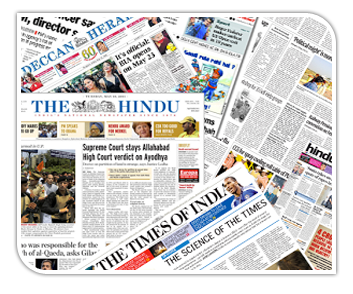news_paper: (18, 86, 223, 284), (183, 15, 335, 276), (90, 15, 250, 167), (18, 15, 203, 132)
